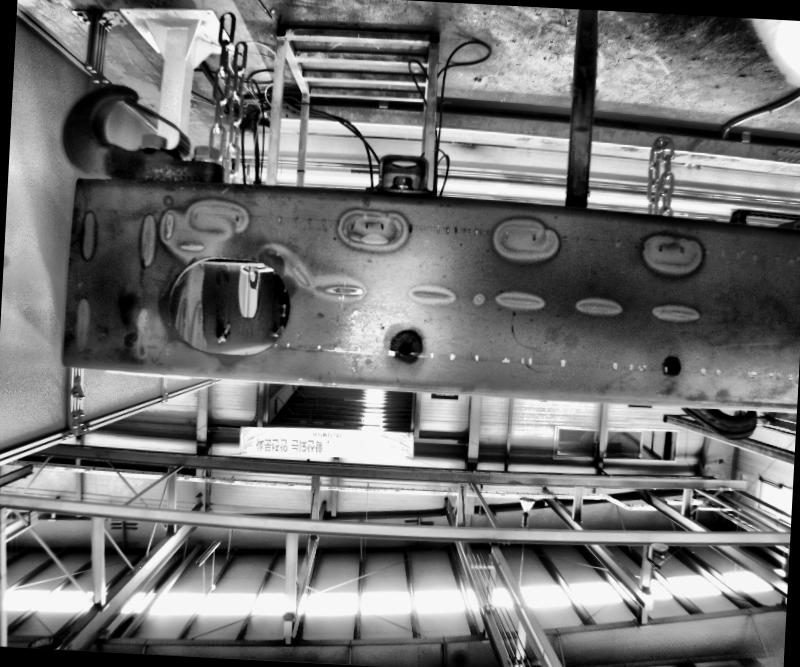bolt: (387, 171, 413, 189)
bracket: (357, 139, 445, 192)
hole: (154, 251, 291, 357), (394, 336, 413, 355), (664, 354, 680, 373)
